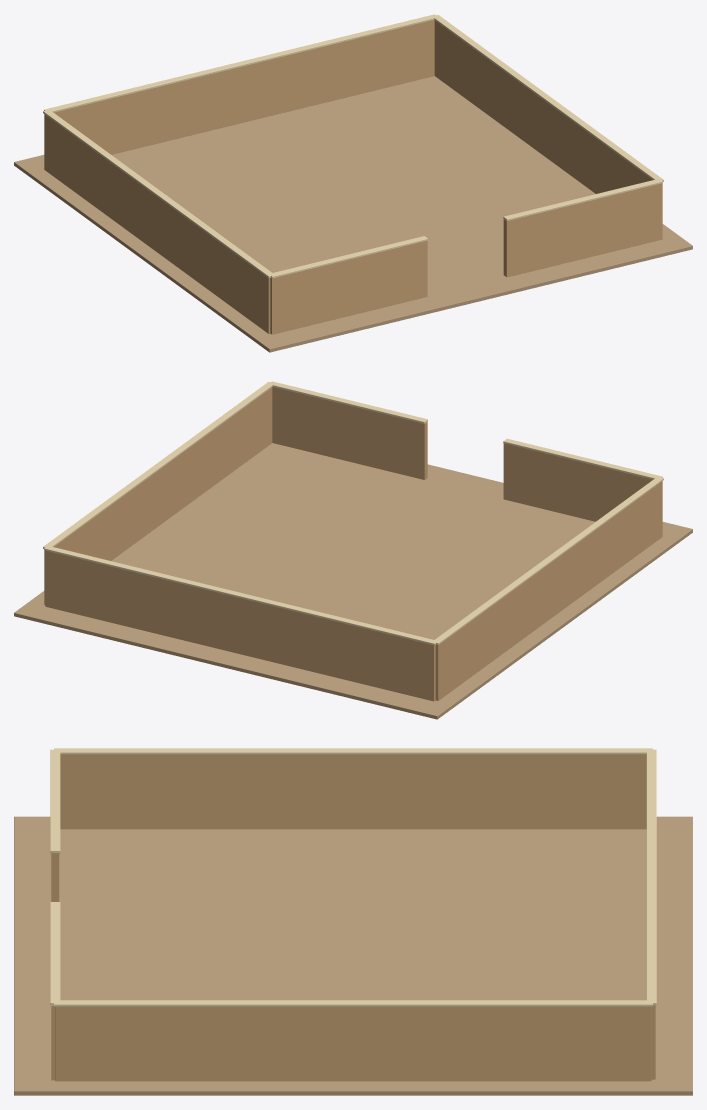
File: desert-caravanserai-and-bazaar-caravan-court-base-fe11aa2d__30491.glb
3 renders of one model, top to bottom at view 1: azimuth 30°, elevation 25°; view 2: azimuth 150°, elevation 25°; view 3: azimuth 270°, elevation 25°, orthographic. The views are drawn at different scales.
Visible parts, largest first — view 1: caravan-court-base; view 2: caravan-court-base; view 3: caravan-court-base.
Boxes of the visible parts, x1,y1,x2,y2 form: caravan-court-base: [14, 14, 692, 352]; caravan-court-base: [14, 381, 692, 719]; caravan-court-base: [14, 748, 692, 1095].
Size of the model in its own units: 22 by 3.08 by 23.
